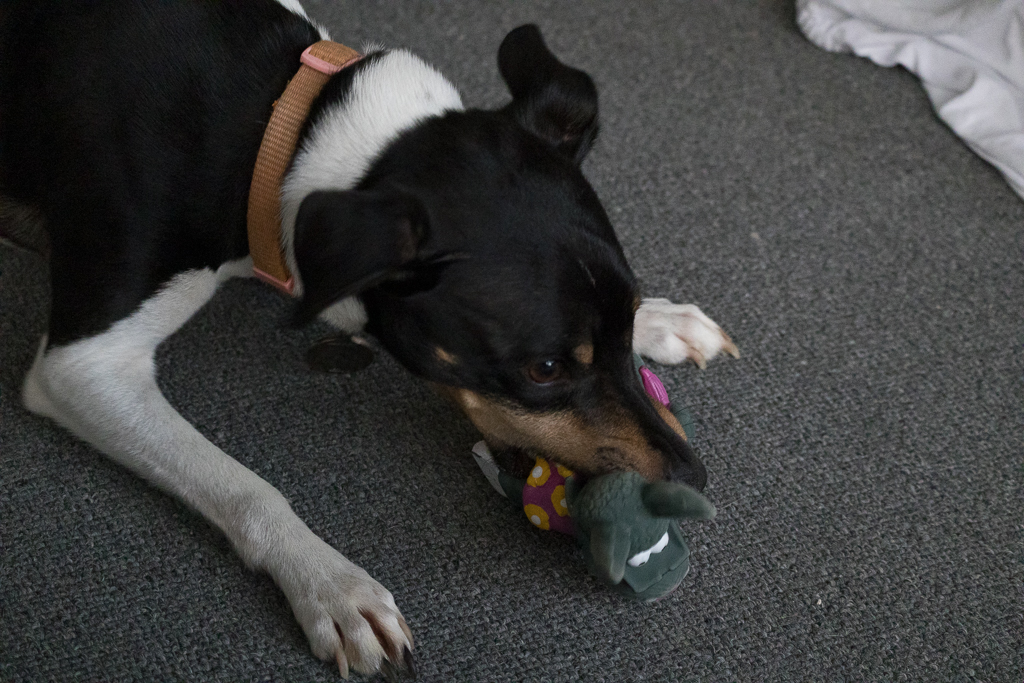Dog: (0, 0, 748, 683)
Humanoid: (464, 340, 703, 626)
